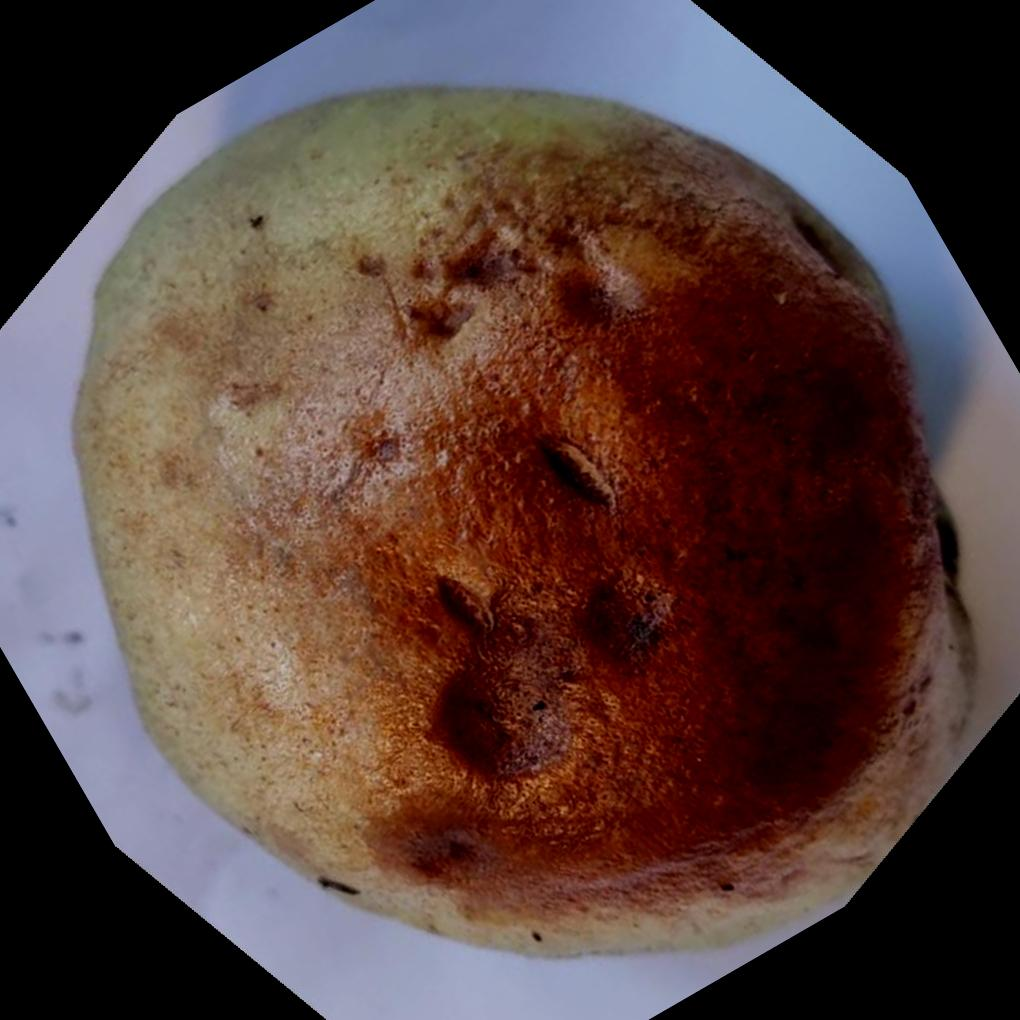FreshOrange: (71, 84, 977, 966)
